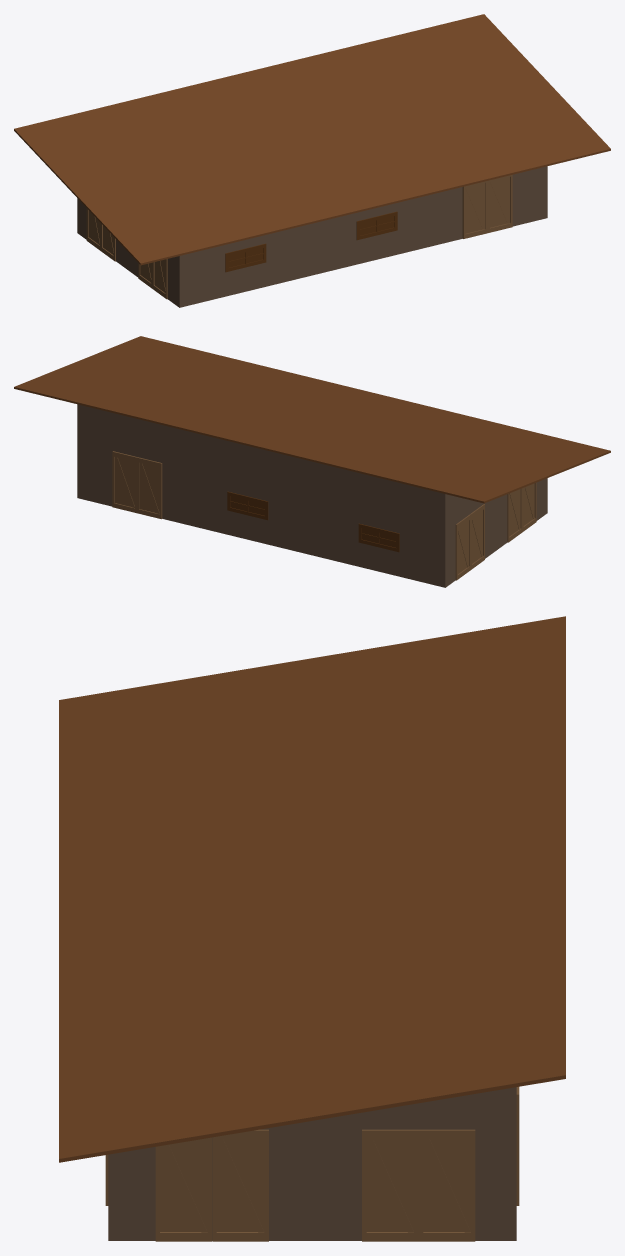
File: Ass_House5_JC_001.fbx
3 views of the same model, one above another, from view 1: azimuth 30°, elevation 25°; view 2: azimuth 150°, elevation 25°; view 3: azimuth 270°, elevation 25° (orthographic). The views are drawn at different scales.
Visible parts, largest first — view 1: roof, mainBody, barndoor3, barndoor2, barndoor10, barndoor9, windowbeam2, windowbeam3; view 2: roof, mainBody, barndoor10, barndoor7, barndoor8, barndoor9, windowbeam5, windowbeam4; view 3: roof, mainBody, barndoor11, barndoor6.
Part boxes in pixels (bbox=[...]): roof: bbox=[14, 14, 610, 265]; mainBody: bbox=[77, 166, 547, 307]; barndoor3: bbox=[462, 181, 487, 238]; barndoor2: bbox=[488, 175, 512, 232]; barndoor10: bbox=[86, 208, 115, 261]; barndoor9: bbox=[138, 259, 167, 299]; windowbeam2: bbox=[225, 243, 266, 272]; windowbeam3: bbox=[356, 211, 397, 240]; roof: bbox=[14, 336, 610, 503]; mainBody: bbox=[77, 404, 547, 587]; barndoor10: bbox=[455, 504, 484, 580]; barndoor7: bbox=[137, 457, 162, 519]; barndoor8: bbox=[112, 451, 137, 513]; barndoor9: bbox=[507, 482, 536, 542]; windowbeam5: bbox=[358, 523, 399, 552]; windowbeam4: bbox=[227, 491, 268, 520]; roof: bbox=[59, 616, 565, 1162]; mainBody: bbox=[108, 1087, 516, 1240]; barndoor11: bbox=[362, 1129, 475, 1241]; barndoor6: bbox=[155, 1129, 268, 1241].
Bounding box in the file's own units: 26.6 × 5.83 × 12.43.
